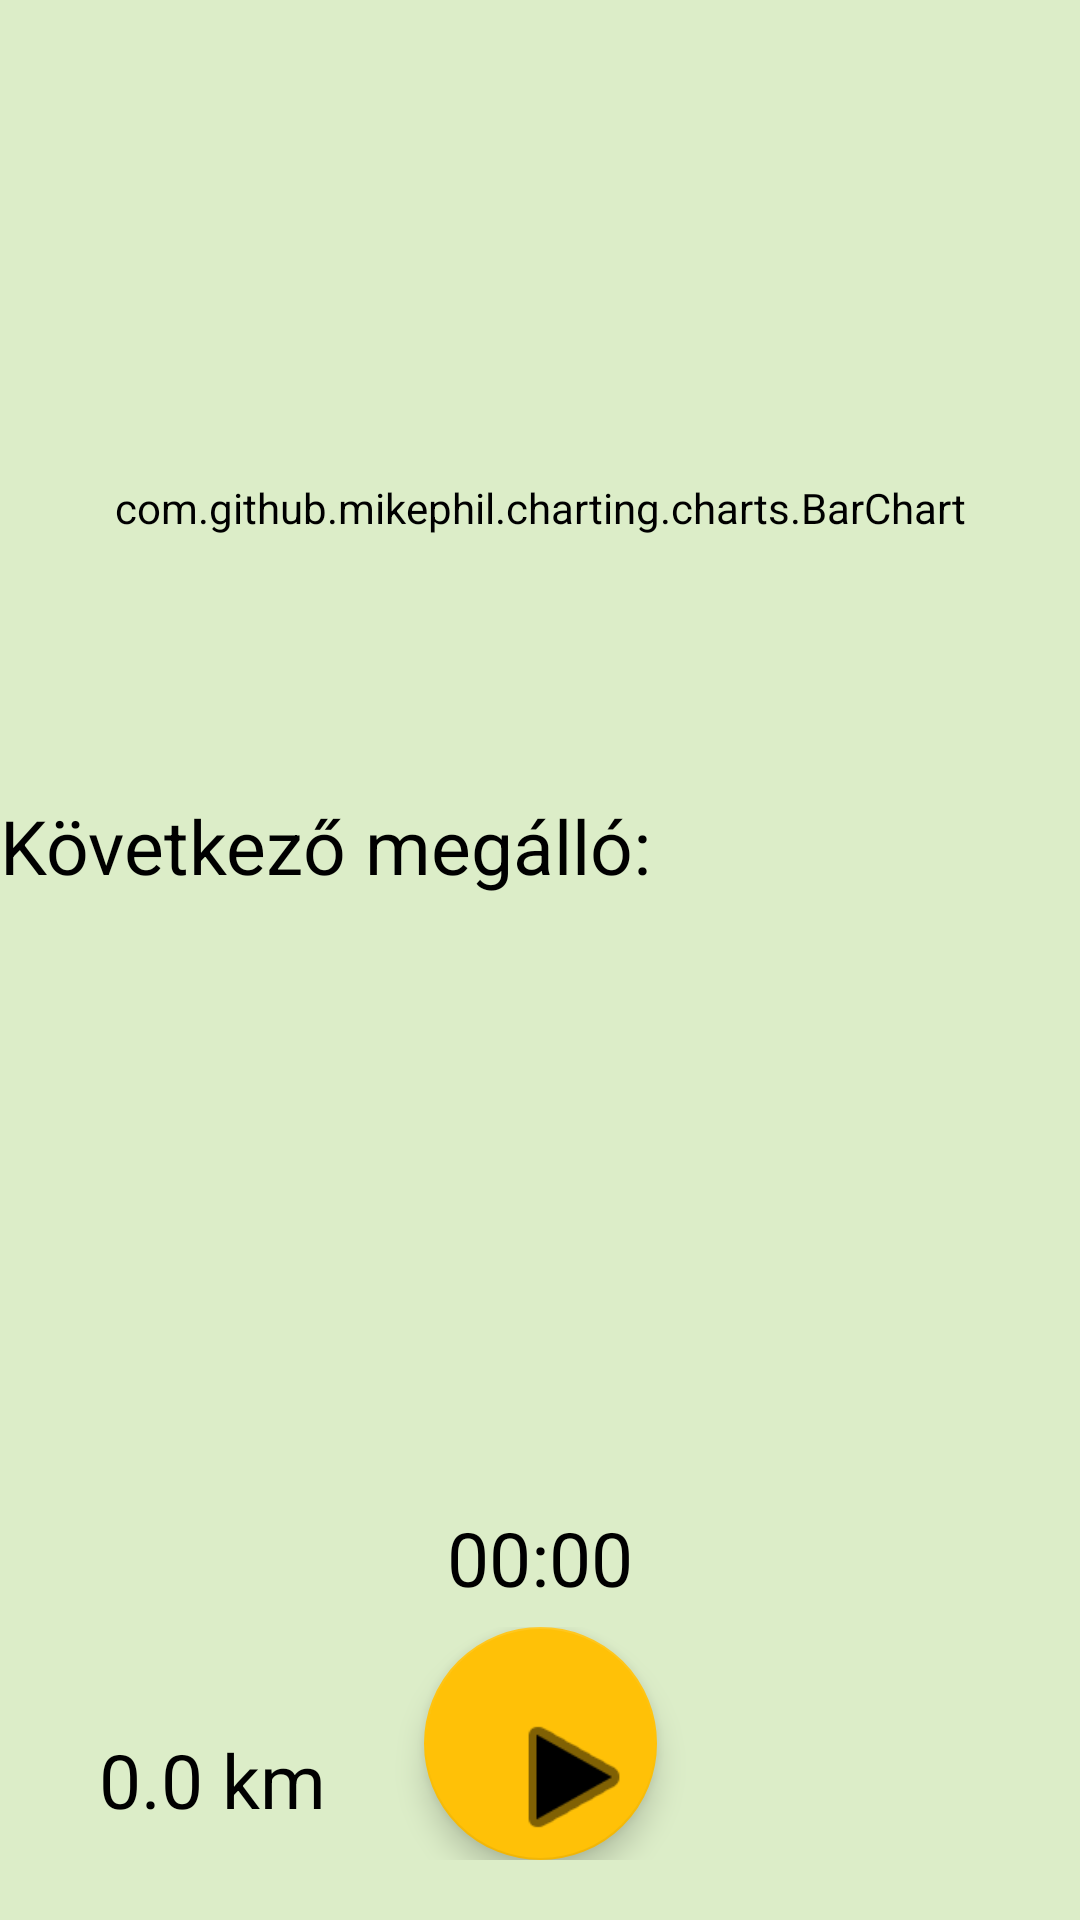

Named icons in this screenshot (1080*1920) and their bounding boxes, bbox=(x1, y1, x2, y2):
start button: bbox=(424, 1627, 657, 1860)
